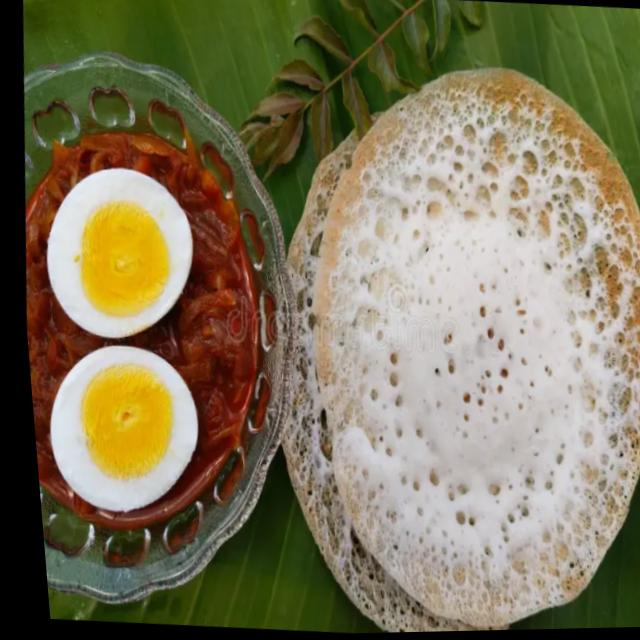AAPAM: (281, 66, 640, 632)
EGG: (46, 168, 191, 335), (49, 346, 196, 509)
